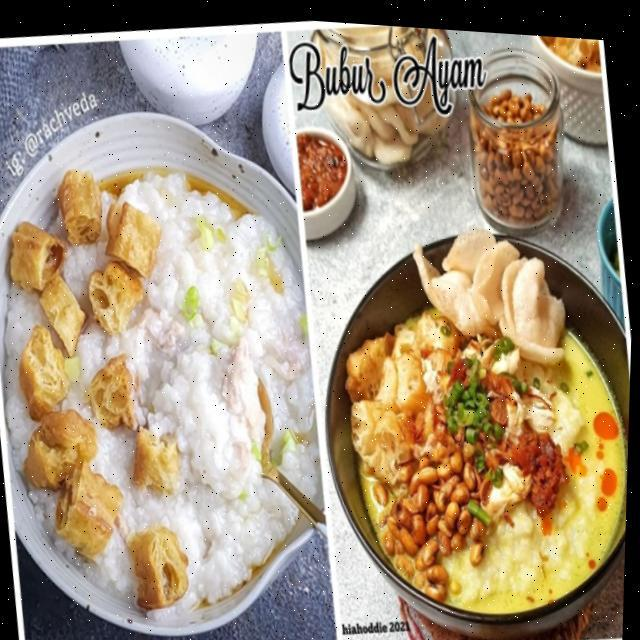bubur ayam: (0, 135, 345, 639), (318, 200, 634, 640)
mangkuk: (0, 81, 351, 640), (294, 196, 634, 640), (114, 21, 268, 137), (522, 35, 609, 154), (291, 117, 364, 242), (587, 194, 628, 334), (523, 35, 603, 104)
sambal: (292, 124, 352, 213)
